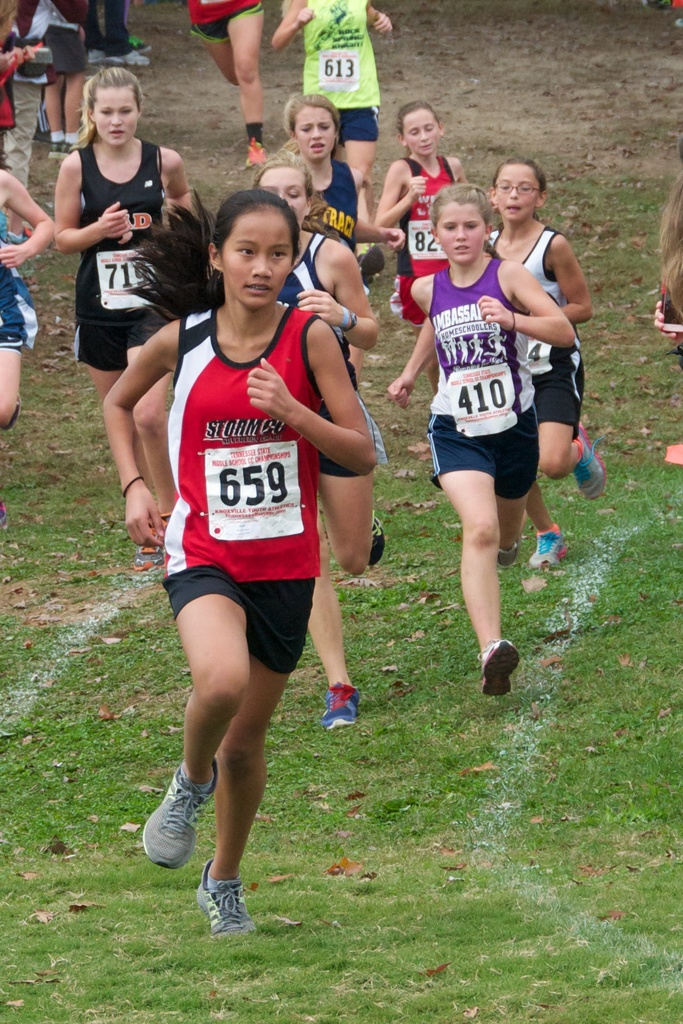person: (80, 0, 152, 68)
